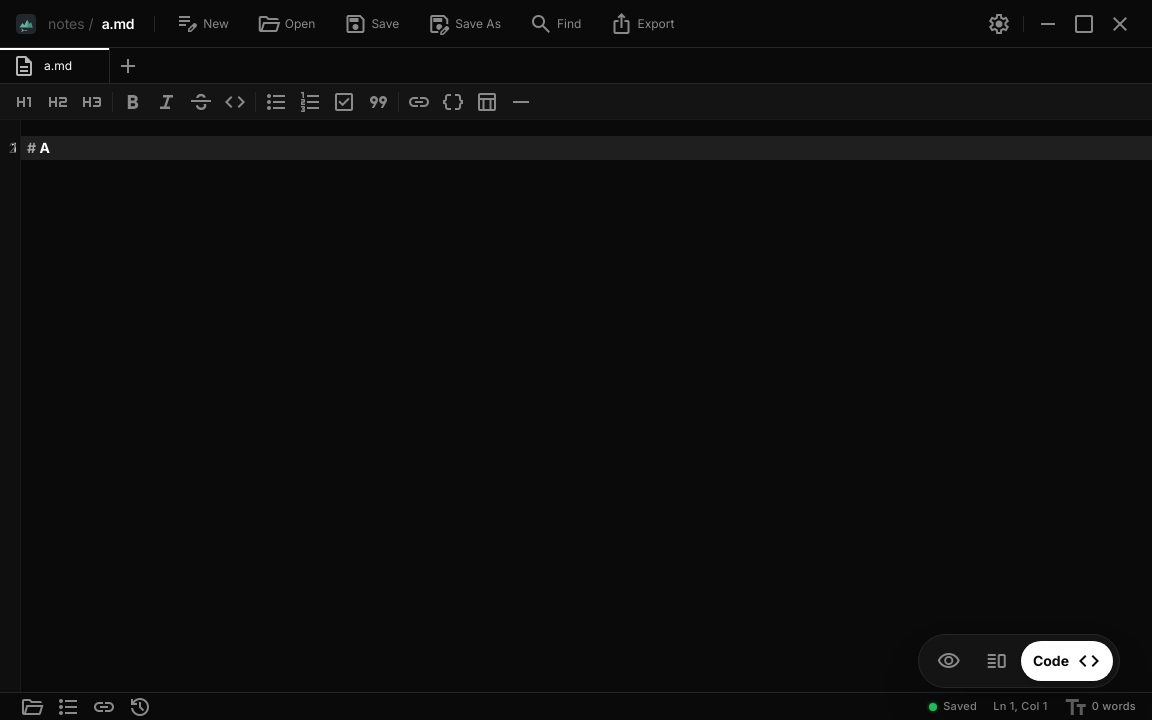
Test: App external conflict › autosave does not overwrite a change made while the window kept focus
The image size is (1152, 720).
Expected: the field with class "cm-content" is shown, [21,136,1151,160]
Click the button named "bold".
click(133, 102)  # box [117,86,149,118]
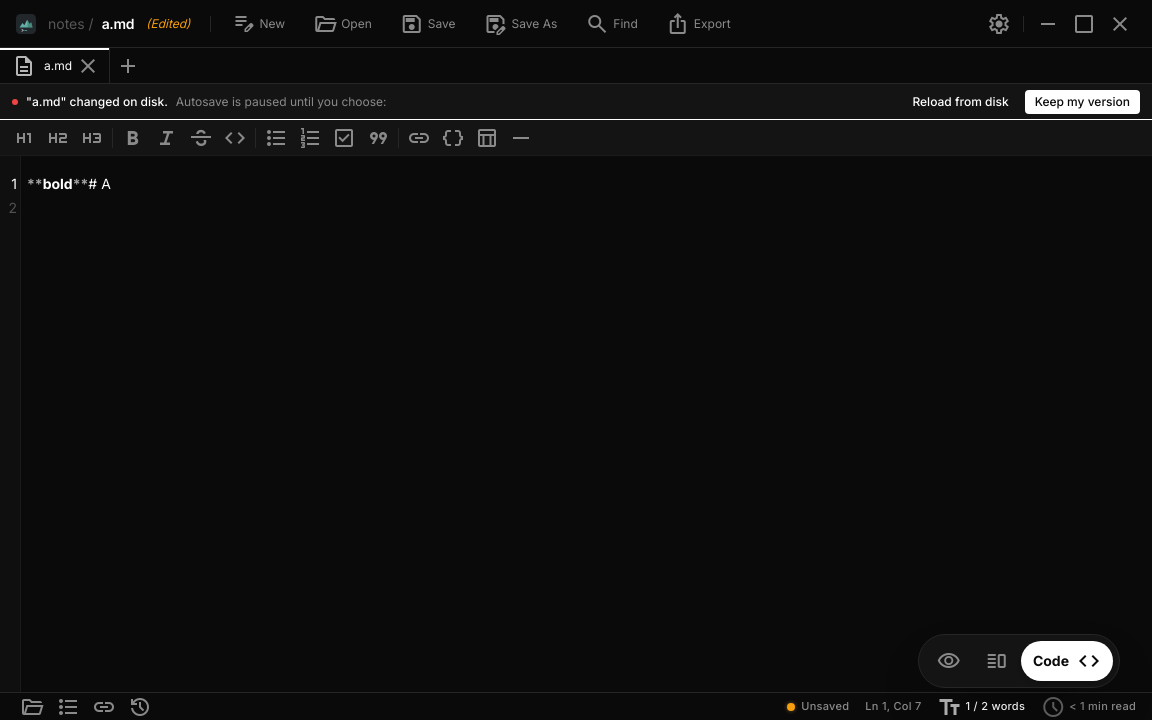
Expected: the text "Unsaved" is shown, [801,698,849,715]
Expected: the button "Keep my version" is shown, [1025,90,1140,114]
Expected: the field with class "cm-content" shows "**", [27,175,111,192]
